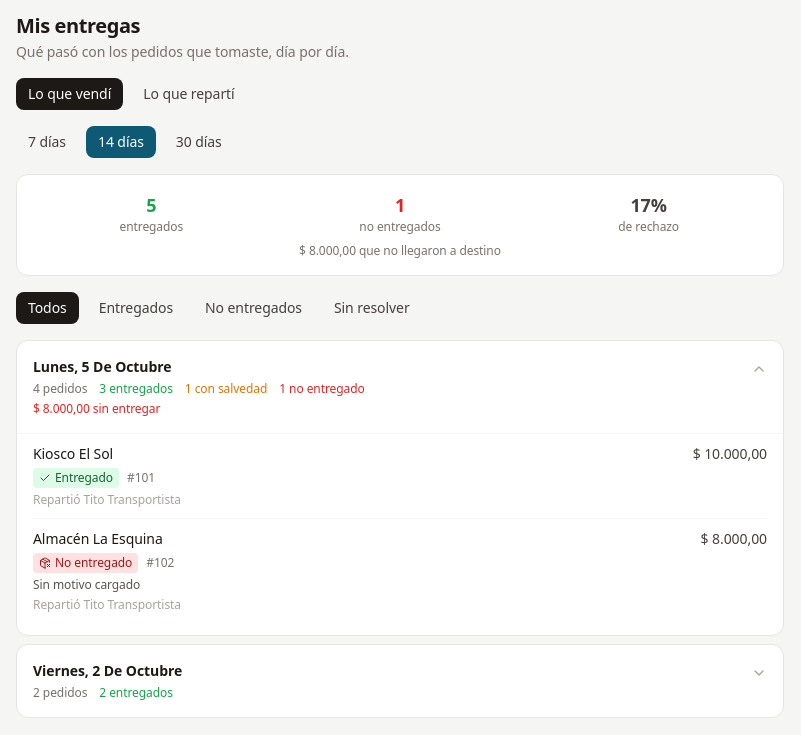
Test case: VistaMisEntregas — preventista que también reparte (#723) › "Lo que repartí" pasa a las RPC de reparto, con el detalle incluido
Expected: the text "Kiosco El Sol" is shown, [33,444,113,463]
Click the button "Lo que repartí" at [189, 94], box [131,78,247,110]
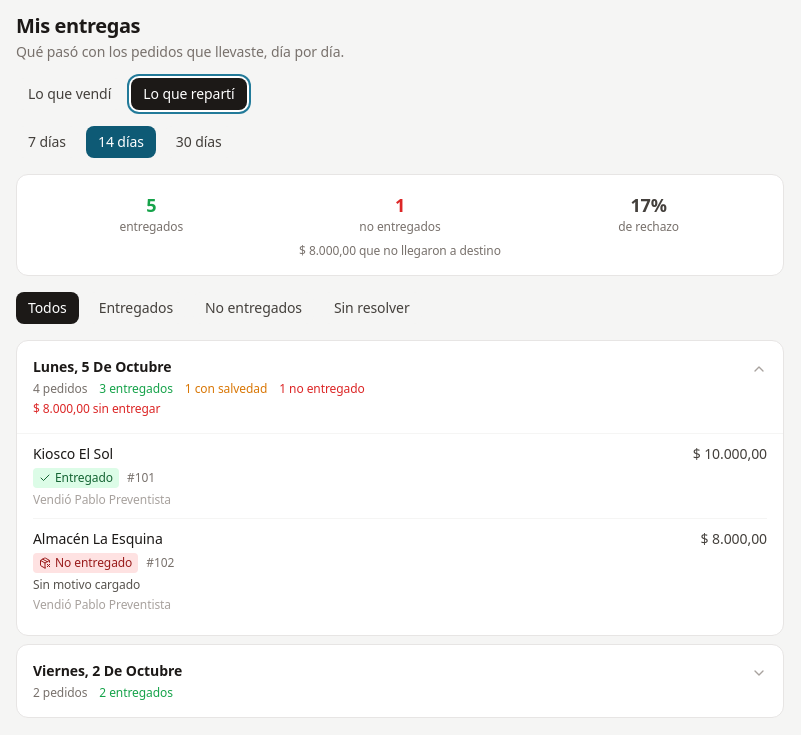
Now the text "Qué pasó con los pedidos que llevaste, día por día." is shown, box [16,42,344,61]
Now the text "Vendió Pablo Preventista" below "101" is shown, box [33,491,171,508]
